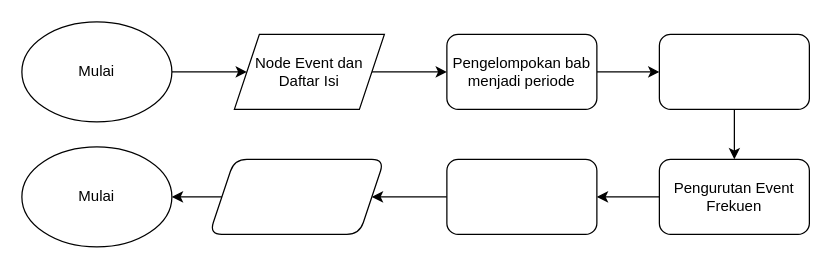
Image size: 831x269. Some labels were removed from this diagram. Here are the shapes that lost their labels. From the top down, the centre of each, then its label:
(733,71): Pemetaan Event ke bab dominan
(296,196): Data periodisasi dan relasi PRECEDES
(521,196): Pembentukan relasi PRECEDES
